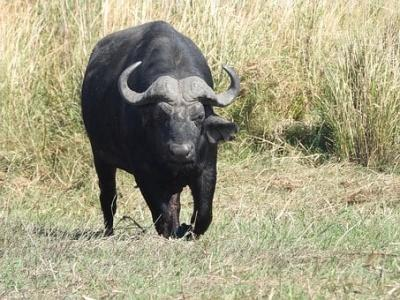buffalo: (81, 22, 240, 241)
